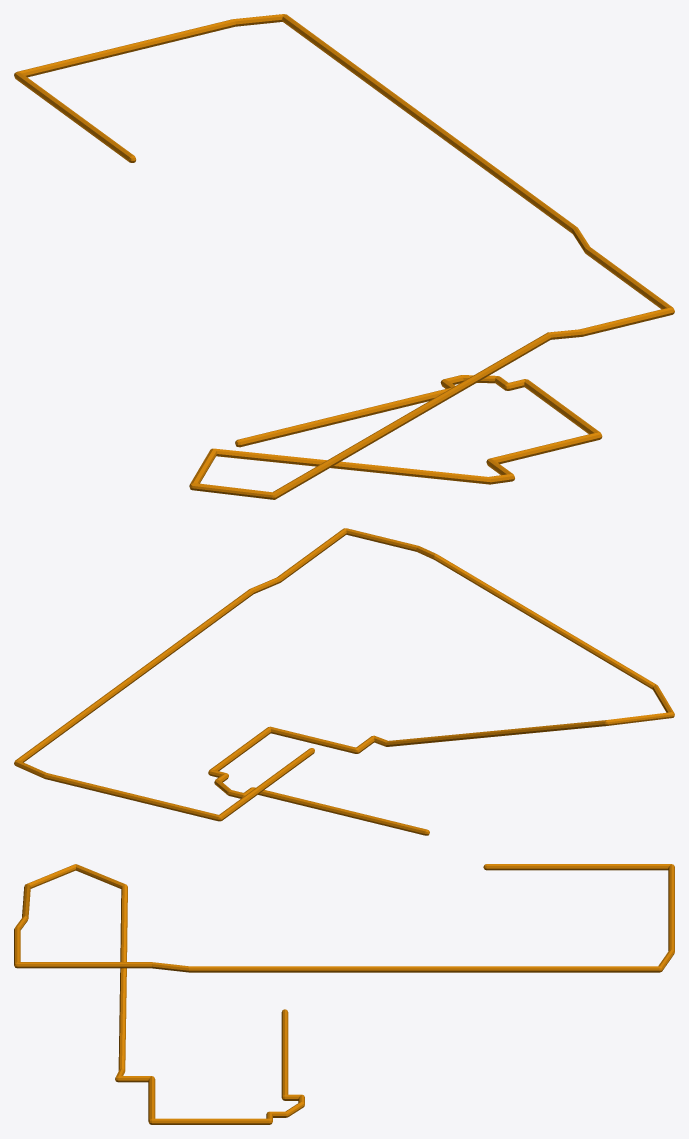
The picture shows the model from 3 angles, top to bottom: view 1: azimuth 30°, elevation 25°; view 2: azimuth 150°, elevation 25°; view 3: azimuth 270°, elevation 25°; orthographic projection. The views are drawn at different scales.
Size of the model in its own units: 1276 by 520 by 1966.
